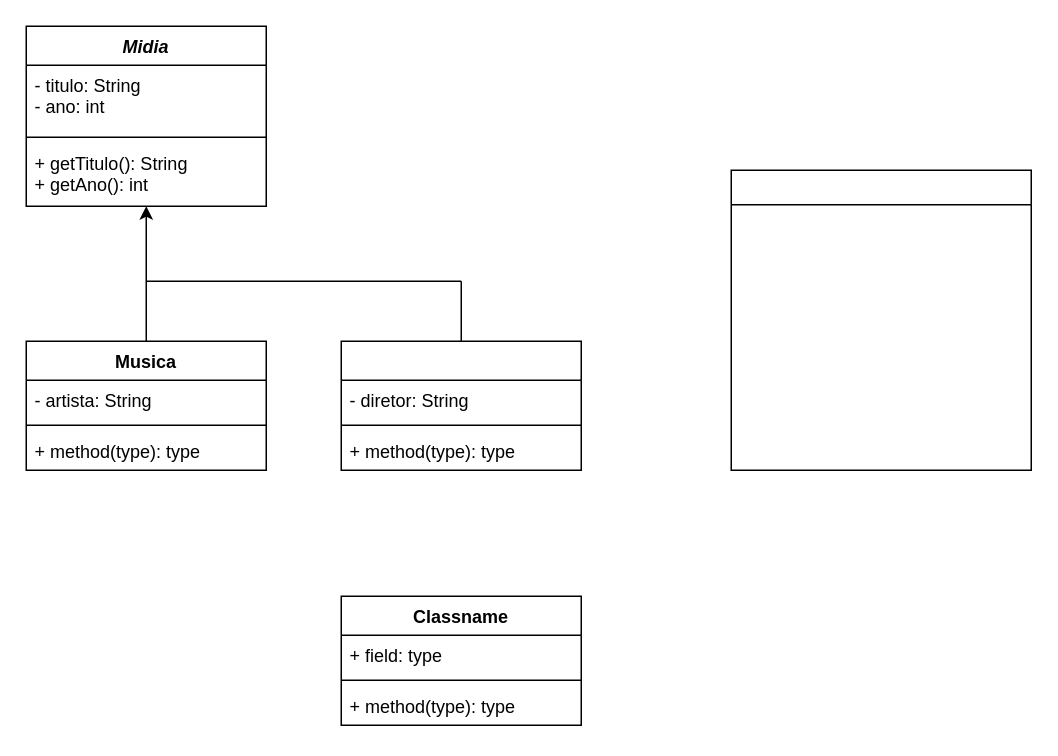
Some shapes in this 1058 by 756 pixel diagram are drawn without their labels. Here are the shapes that lost their labels. From the top down, the box of each, then its label:
(730, 169, 1031, 470): Usuário
(340, 340, 581, 470): Filme
